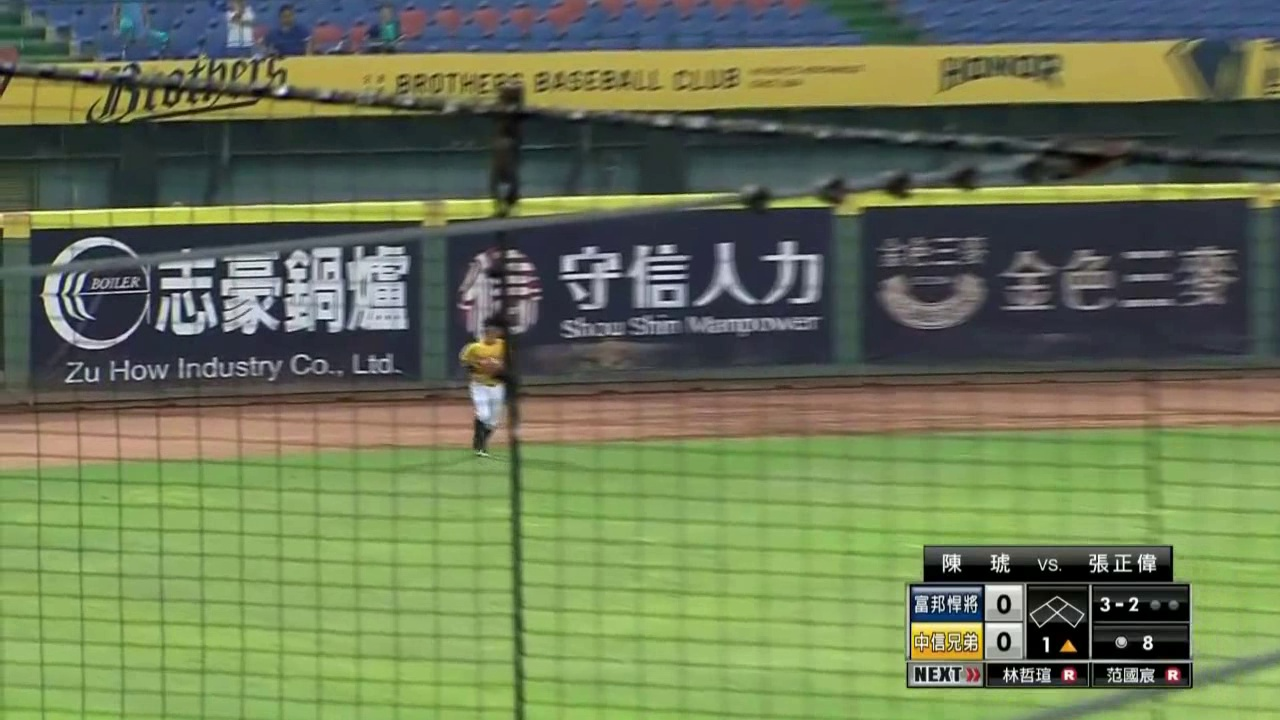base: (1028, 594, 1085, 628)
out: (1144, 592, 1182, 614)
score1: (989, 591, 1024, 622)
score2: (986, 630, 1022, 656)
session: (1030, 628, 1084, 651)
strikeball: (1096, 589, 1144, 619)
total: (1109, 627, 1158, 656)
